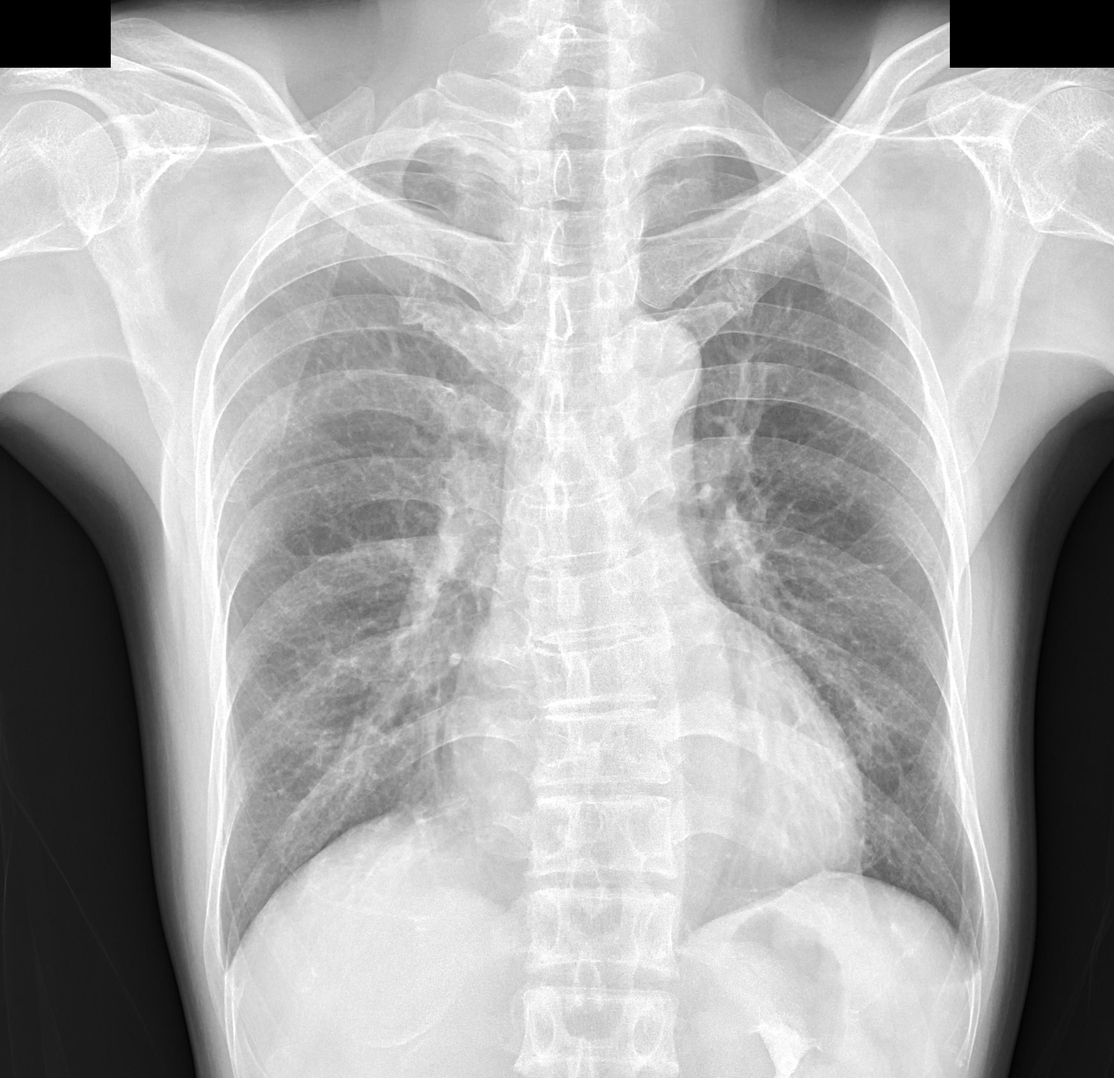Cardiomegaly: (437, 677, 869, 870)
